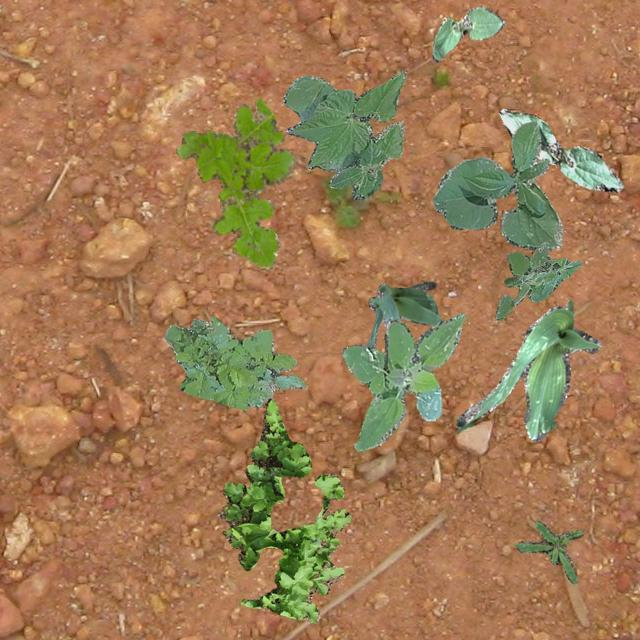crop: (456, 298, 602, 441), (432, 120, 562, 248), (282, 70, 406, 198), (498, 108, 622, 190), (367, 280, 442, 346), (431, 5, 504, 60)
weed: (218, 398, 349, 622), (174, 98, 296, 268), (340, 312, 464, 450), (163, 314, 304, 408), (494, 240, 580, 320), (514, 520, 582, 582)
